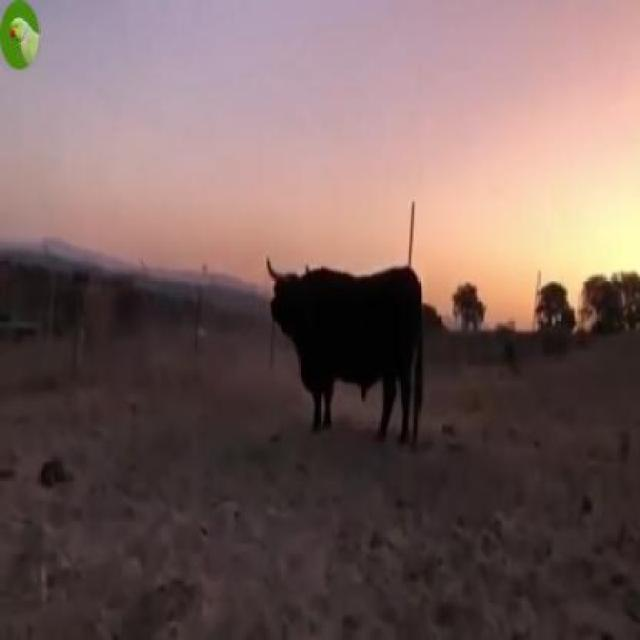Cow: (266, 254, 425, 451)
